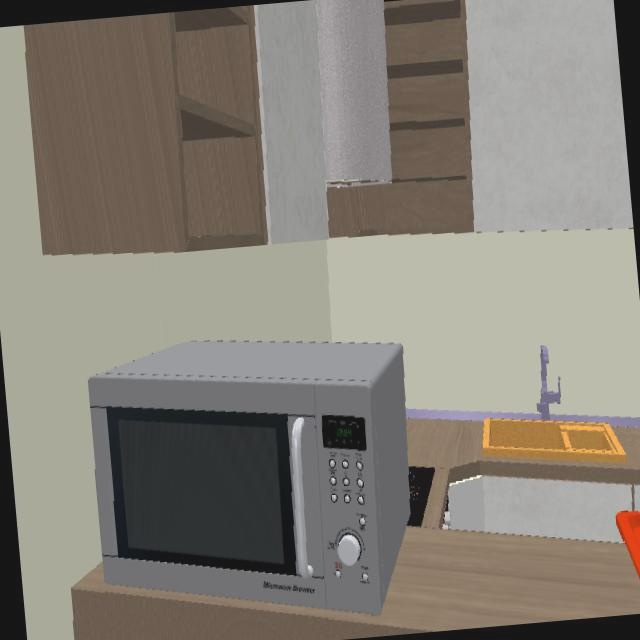countertop: (372, 410, 640, 637)
microwave: (87, 342, 410, 614)
sink: (481, 420, 627, 464)
